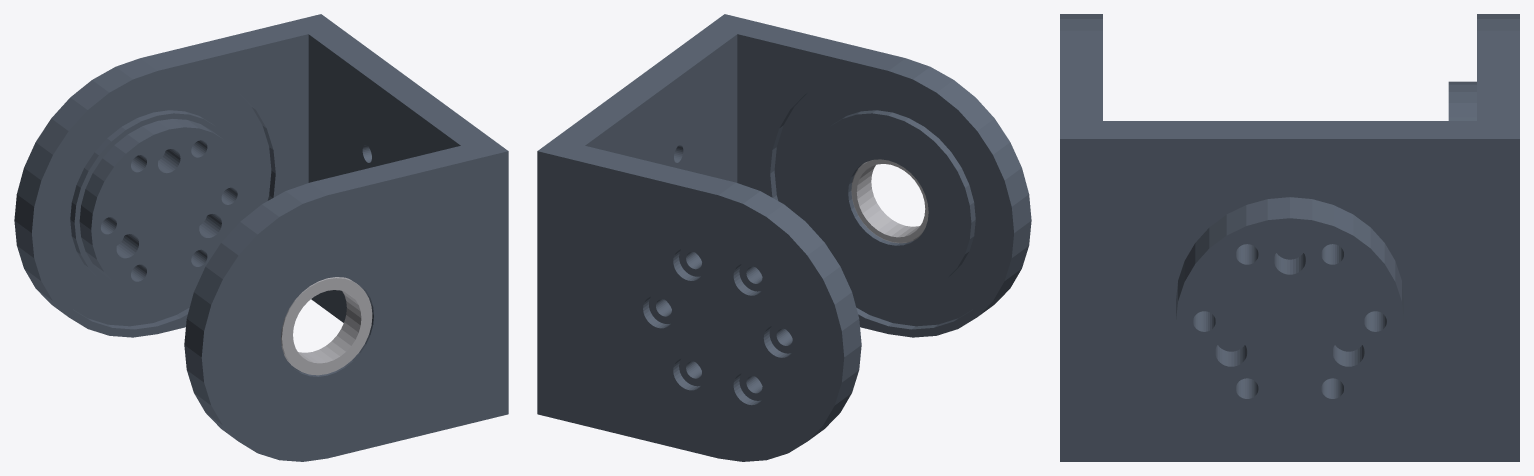
File: ankle_R.dae
3 views of the same model, side by side, from view 1: azimuth 30°, elevation 25°; view 2: azimuth 150°, elevation 25°; view 3: azimuth 270°, elevation 25° (orthographic). The views are drawn at different scales.
Parts seen in each view (by area): view 1: ankle_R-printed, ankle_R-steel; view 2: ankle_R-printed, ankle_R-steel; view 3: ankle_R-printed.
Part boxes in pixels (x1=…): ankle_R-printed: x1=14, y1=14, x2=508, y2=461; ankle_R-steel: x1=281, y1=277, x2=372, y2=375; ankle_R-printed: x1=537, y1=14, x2=1031, y2=461; ankle_R-steel: x1=851, y1=159, x2=928, y2=243; ankle_R-printed: x1=1060, y1=14, x2=1519, y2=461.
Bounding box in the file's own units: 0.068 × 0.0645 × 0.05.
